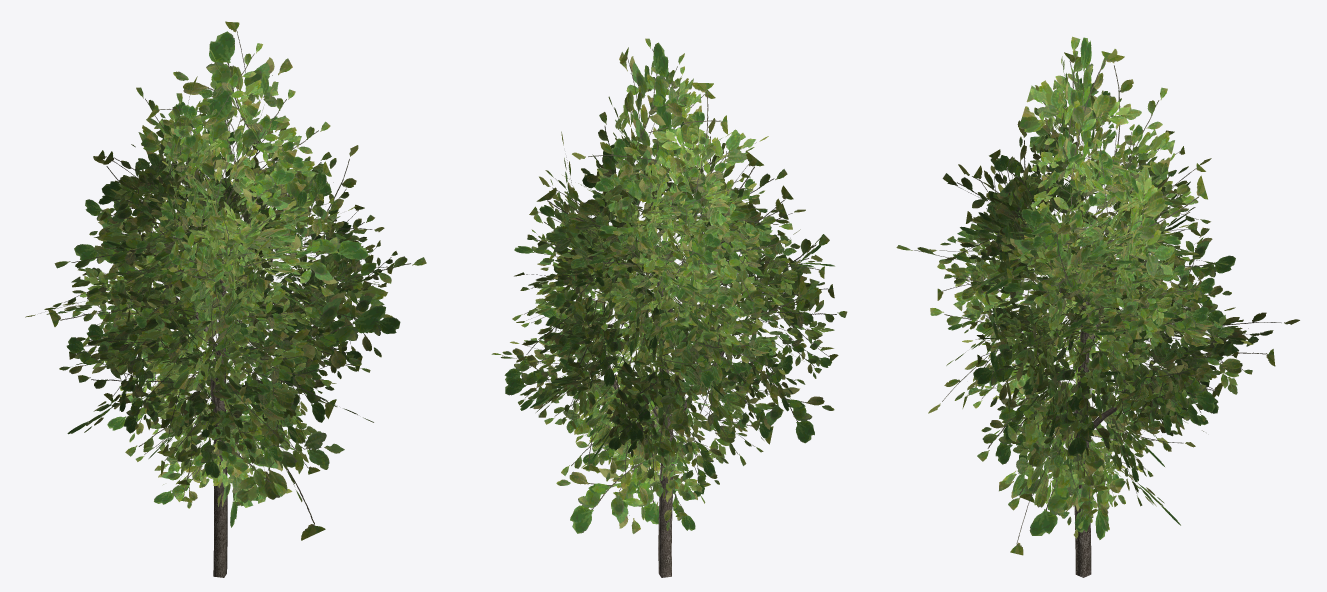
File: tree_linden_v0_l1.glb
3 views of the same model, side by side, from view 1: azimuth 30°, elevation 25°; view 2: azimuth 150°, elevation 25°; view 3: azimuth 270°, elevation 25° (orthographic). The views are drawn at different scales.
Visible parts, largest first — view 1: tree_linden_v0_l1; view 2: tree_linden_v0_l1; view 3: tree_linden_v0_l1.
Part boxes in pixels (box(x1,y1,x2,y2)): tree_linden_v0_l1: box(25, 21, 426, 577); tree_linden_v0_l1: box(491, 38, 847, 577); tree_linden_v0_l1: box(896, 36, 1299, 577).
Bounding box in the file's own units: 8.71 × 13.21 × 9.1.
2 materials, 2 textured.
